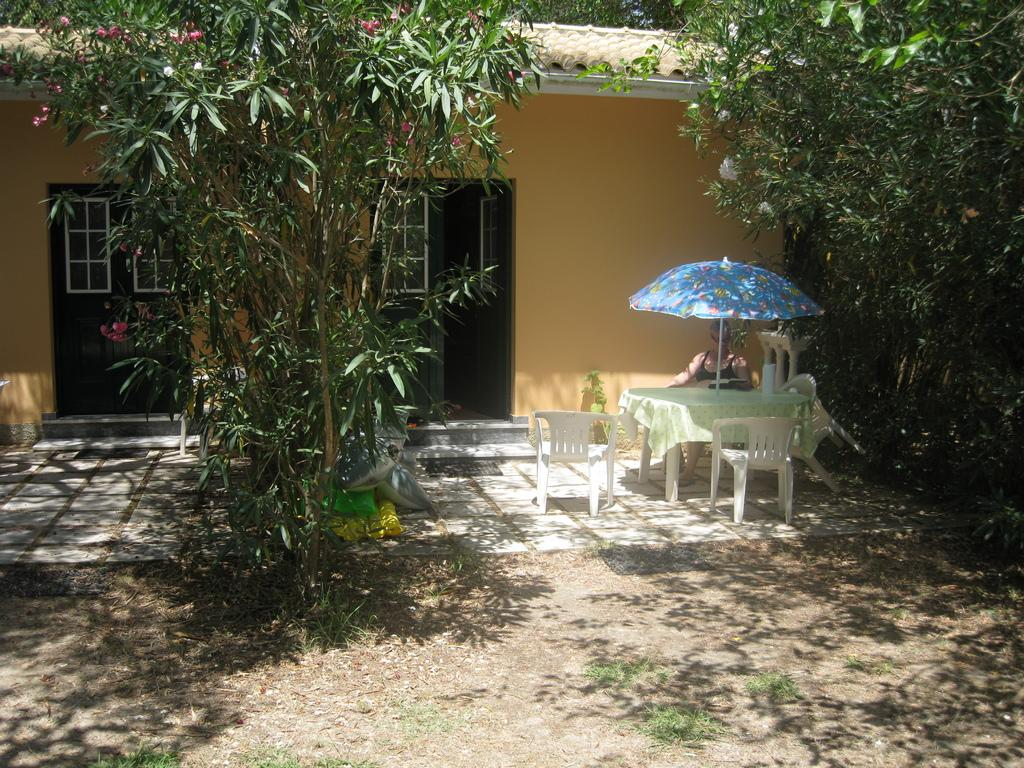Chair: (769, 373, 868, 486), (706, 413, 806, 519), (532, 408, 615, 517), (174, 365, 252, 457)
